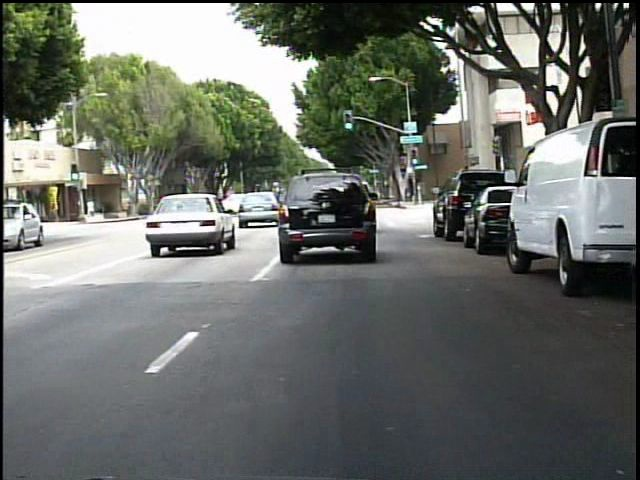person: (86, 197, 98, 221)
